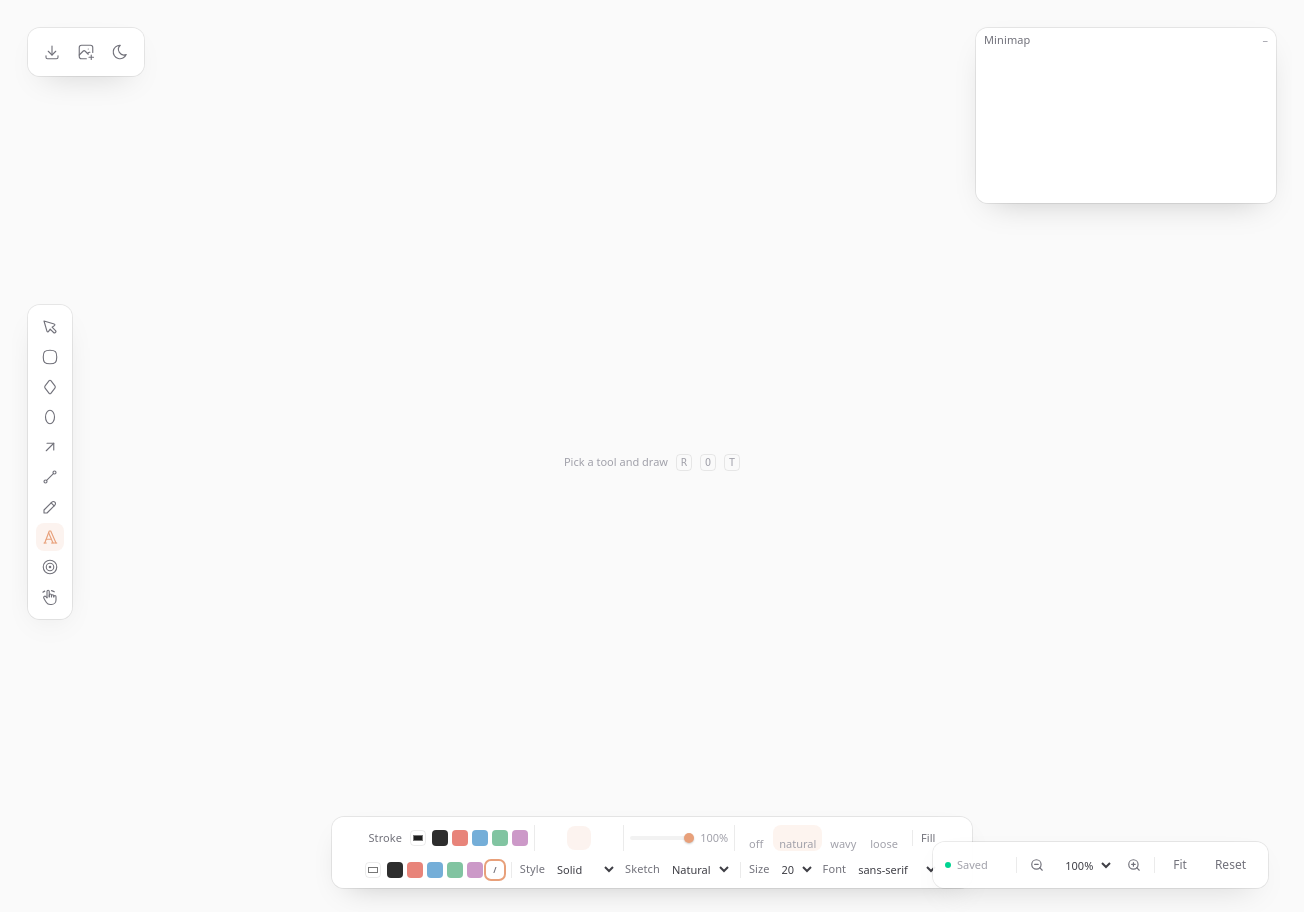
Test: text tool flow › clicking away commits instead of losing the text
Step 1. Press the mouse on the drawing named "Drawing canvas. Press V for select, R for rectangle, T for t" → (652, 462), box [12, 12, 1292, 911]
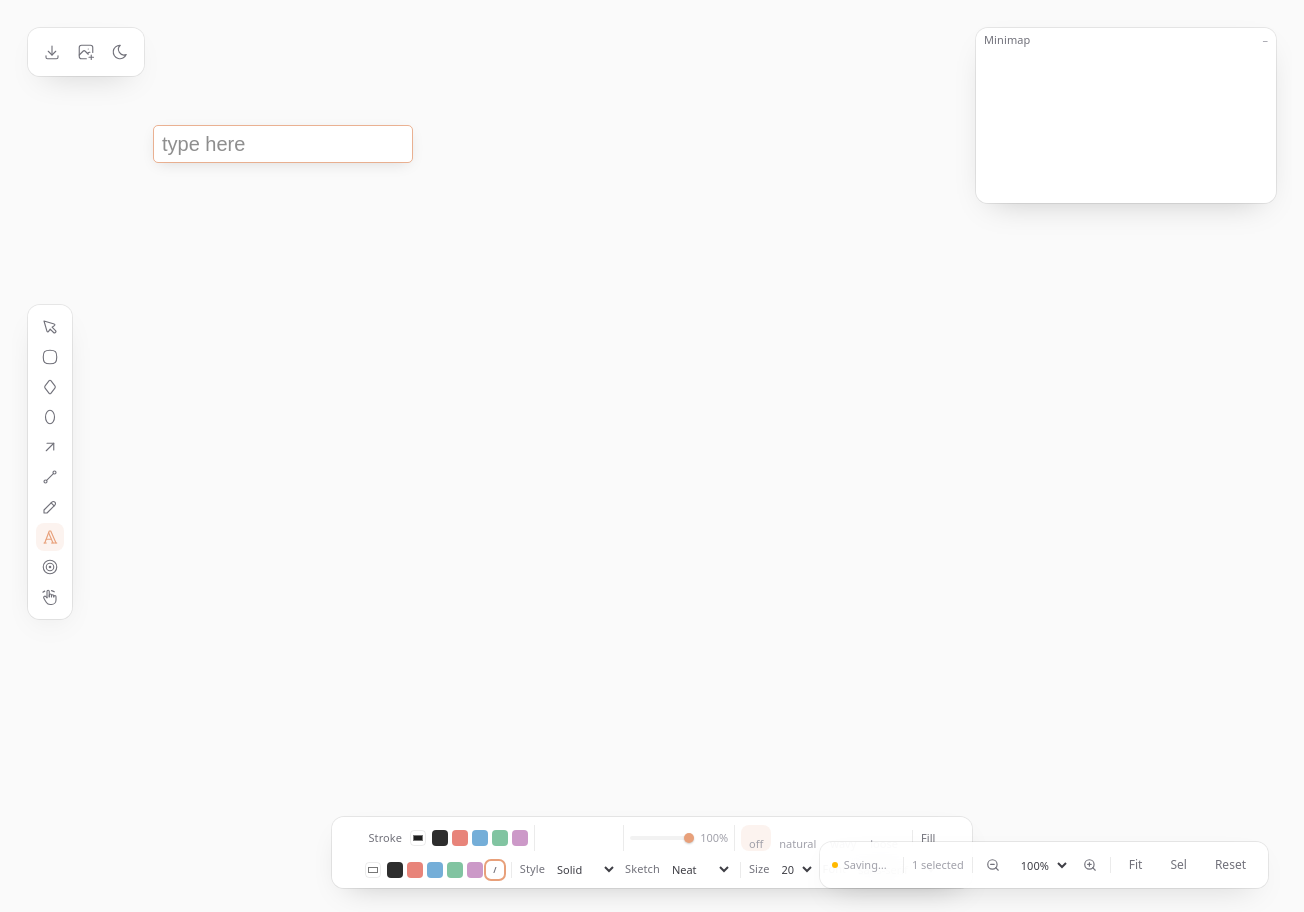
Step 2. Type "away" into the text box → (283, 144), box [154, 126, 412, 162]
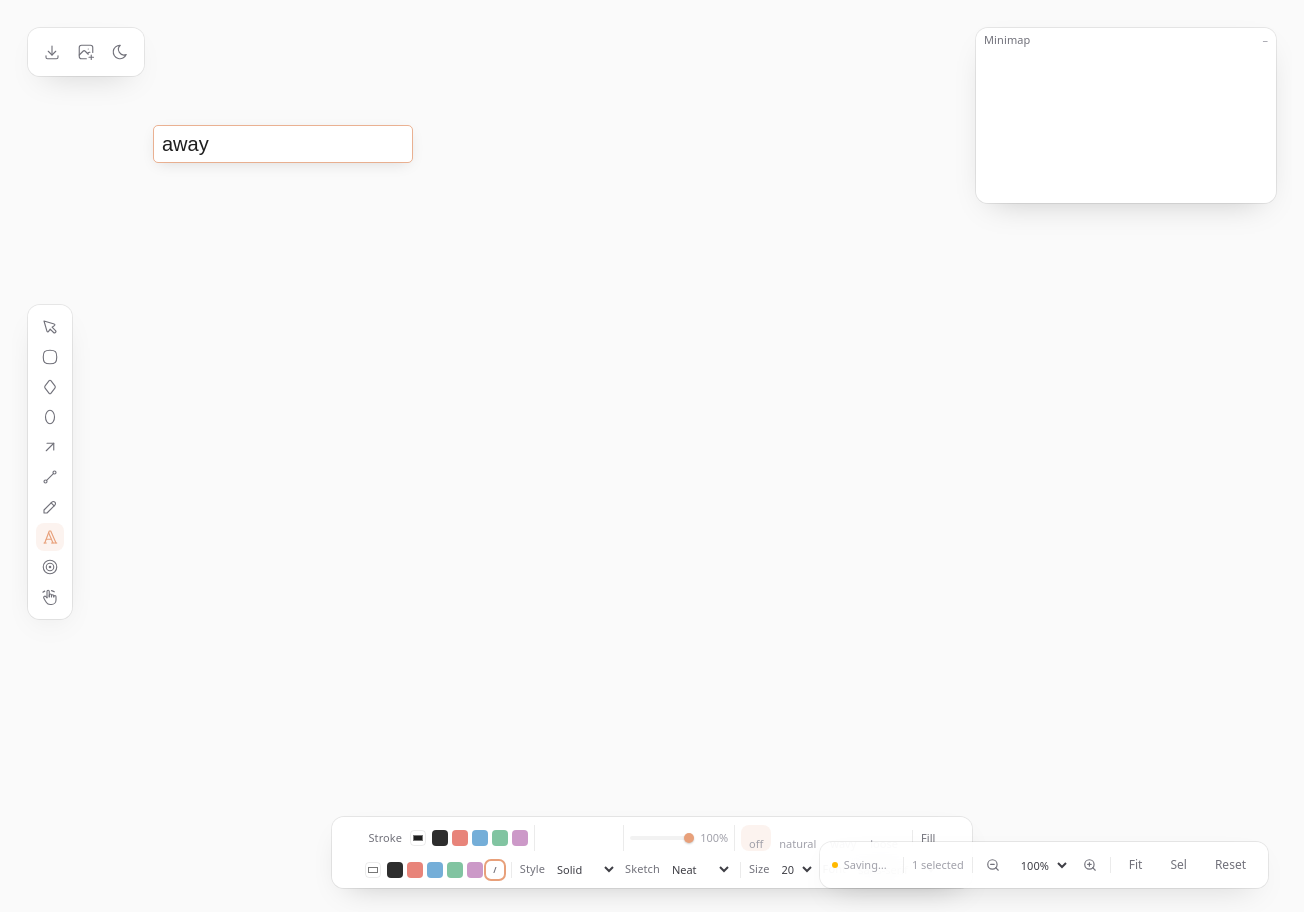
Step 3. Press the mouse on the drawing named "Drawing canvas. Press V for select, R for rectangle, T for t" → (652, 462), box [12, 12, 1292, 911]
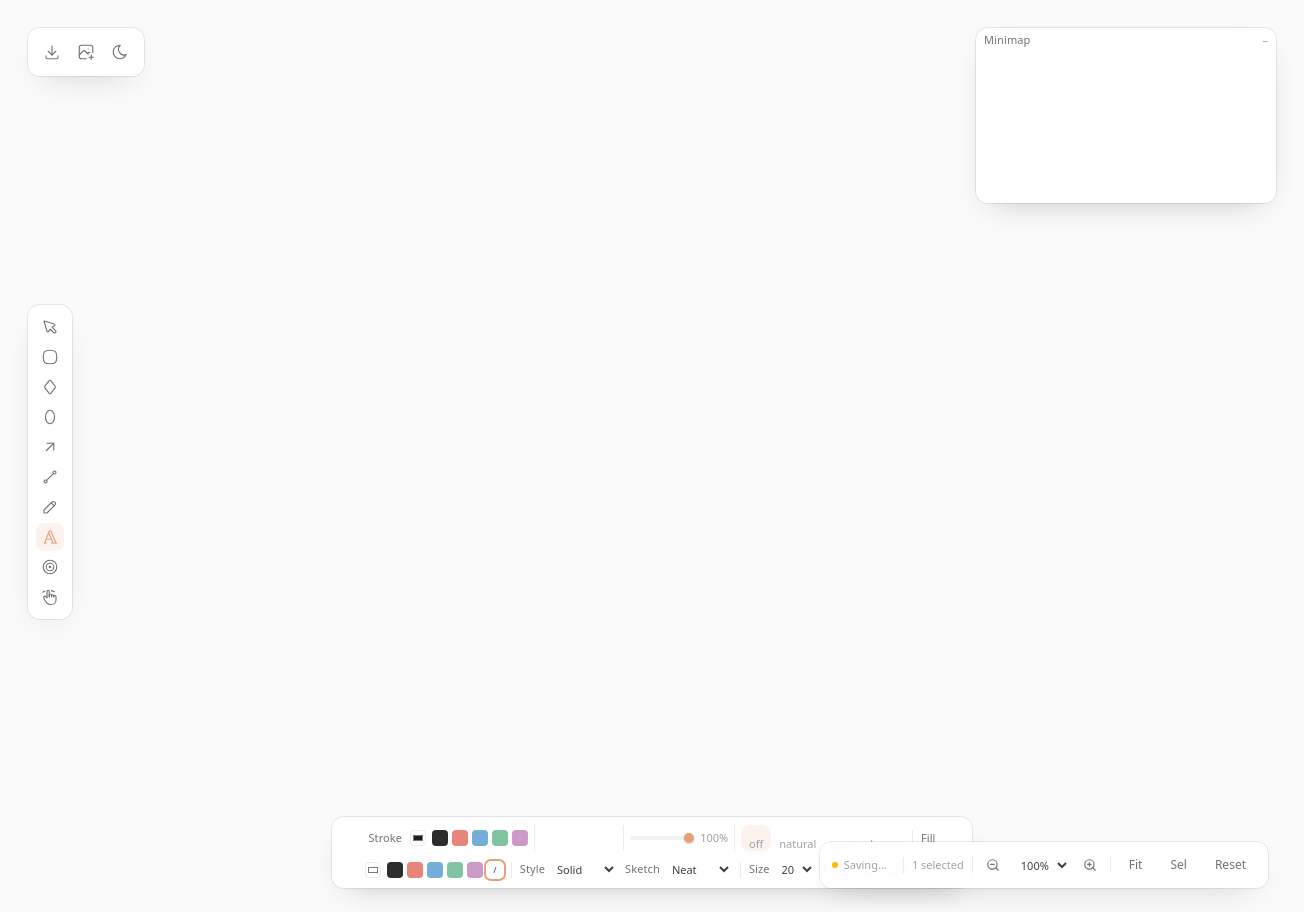
Step 4. Double-click the drawing named "Drawing canvas. Press V for select, R for rectangle, T for t" → (652, 462), box [12, 12, 1292, 911]
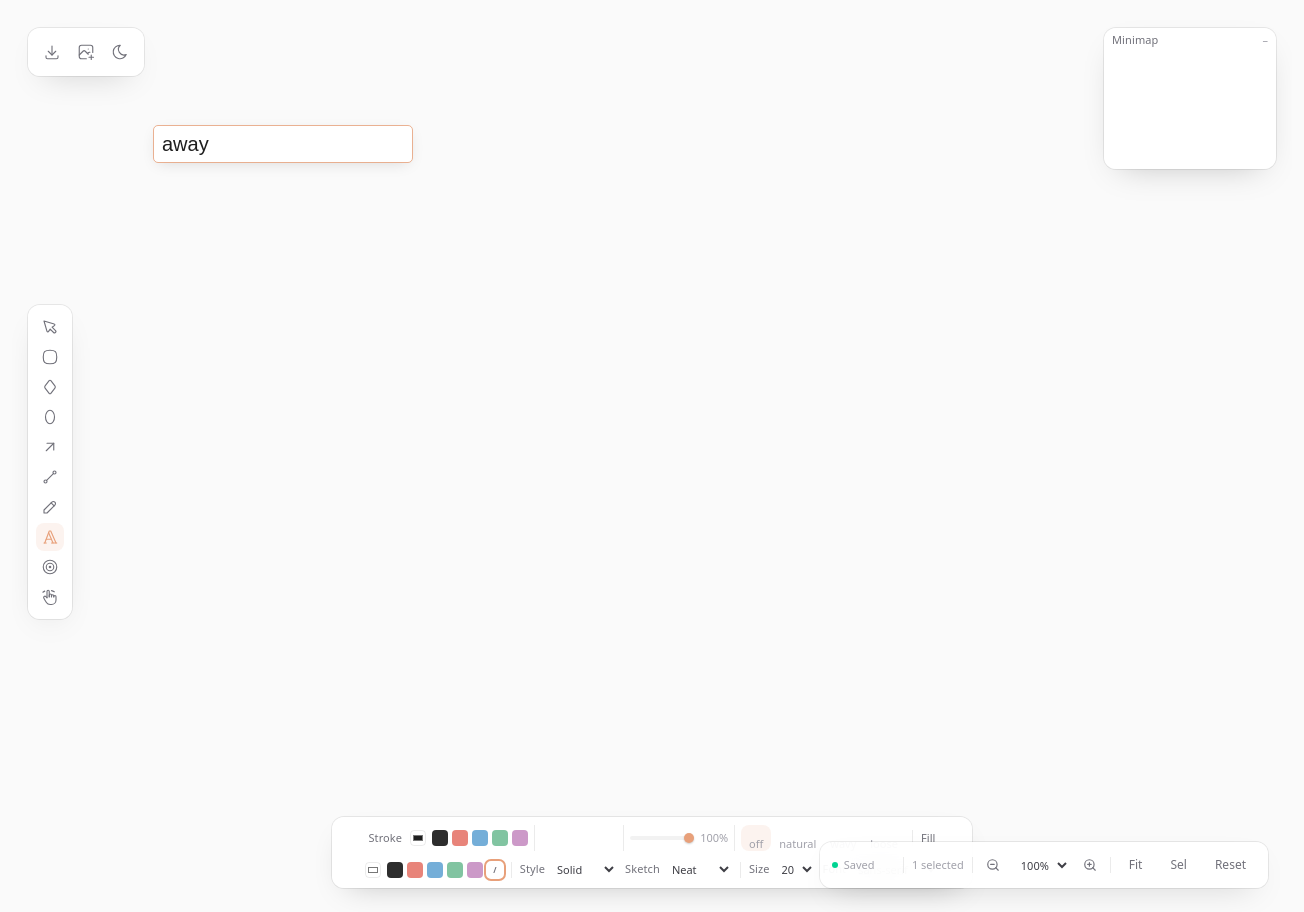
Expected: the text box holds "away", [154, 126, 412, 162]
